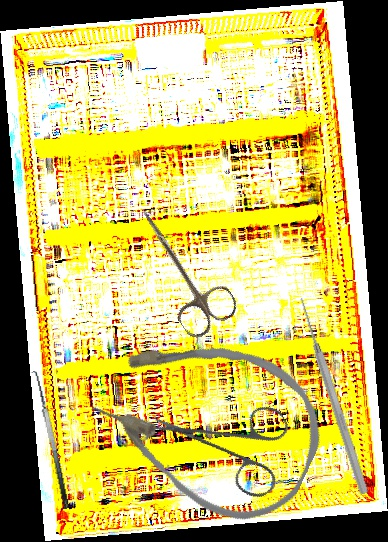Cannula: (73, 301, 343, 542)
Iris Scissors: (149, 361, 313, 527), (115, 194, 243, 343)
Pusher: (294, 295, 372, 496)
Spatula Surgical: (24, 369, 71, 512)
